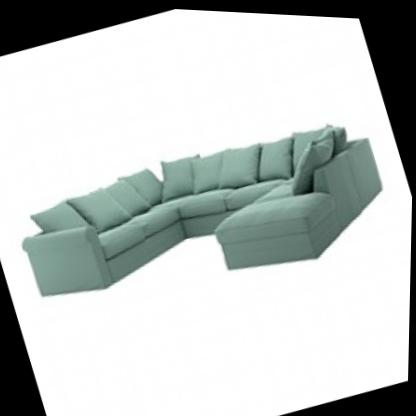Sofa: (0, 58, 412, 365)
